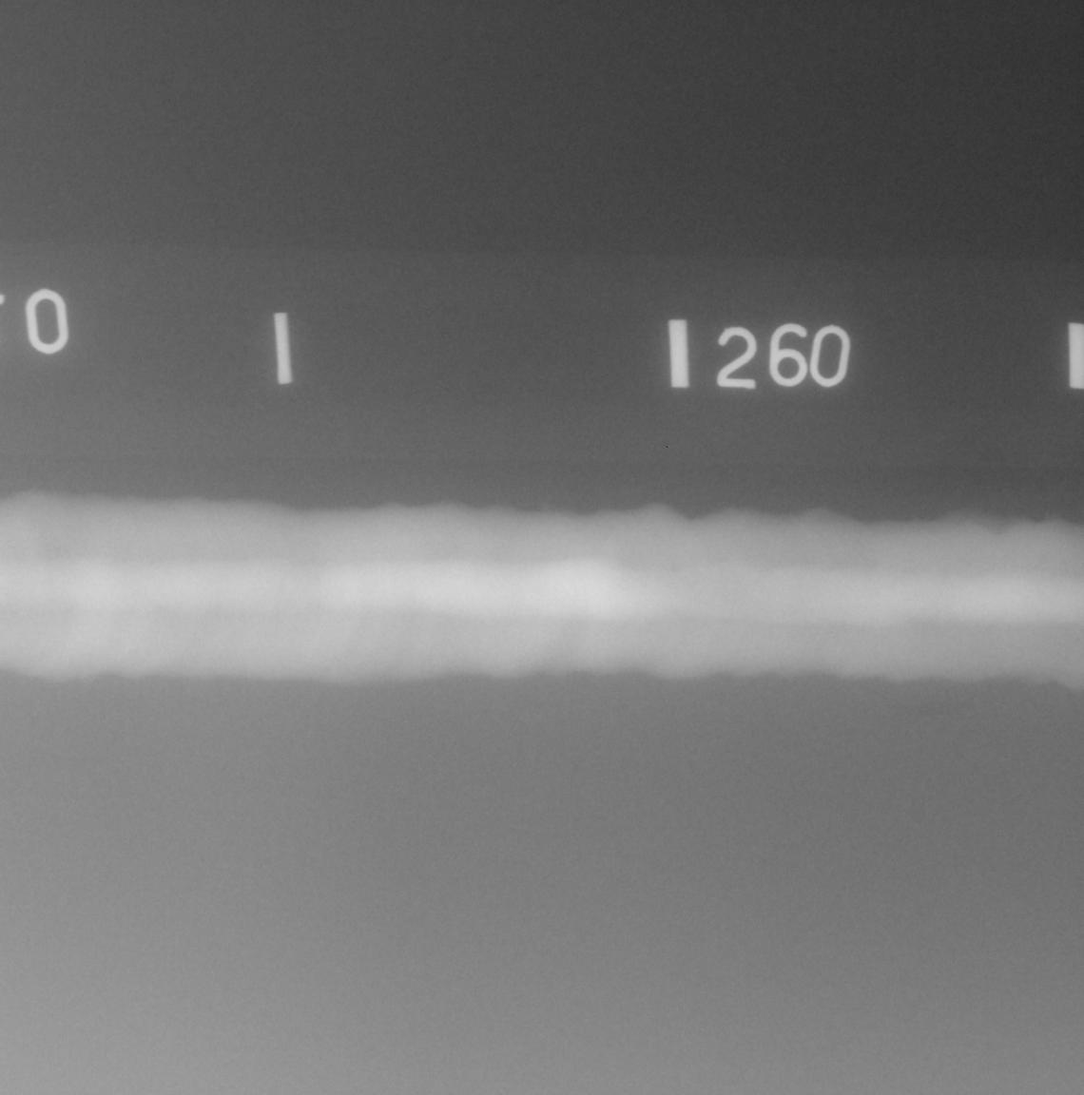Inclusion: (670, 566, 679, 572)
